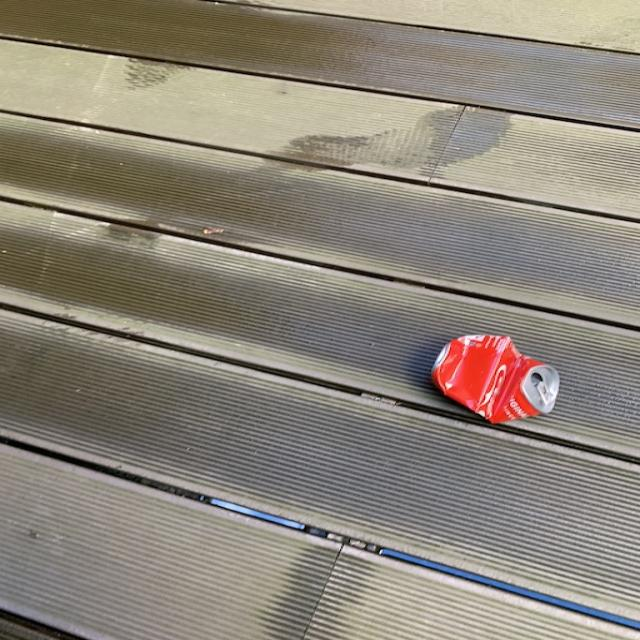litter: (424, 330, 560, 423)
